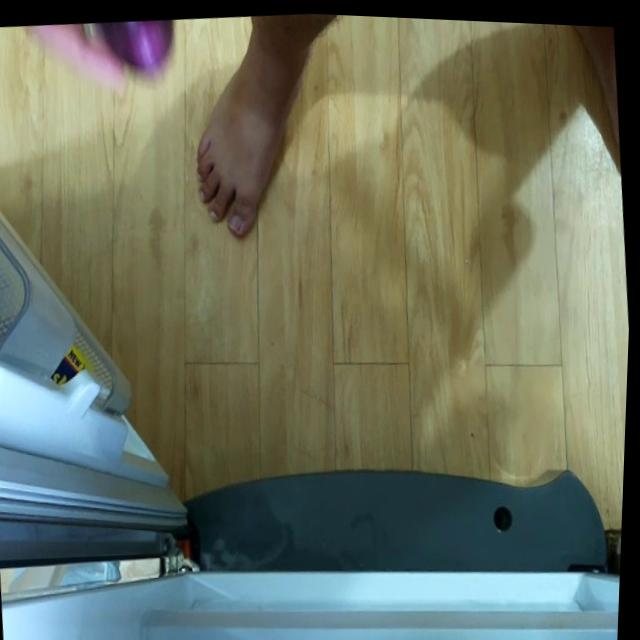onion: (93, 15, 178, 78)
